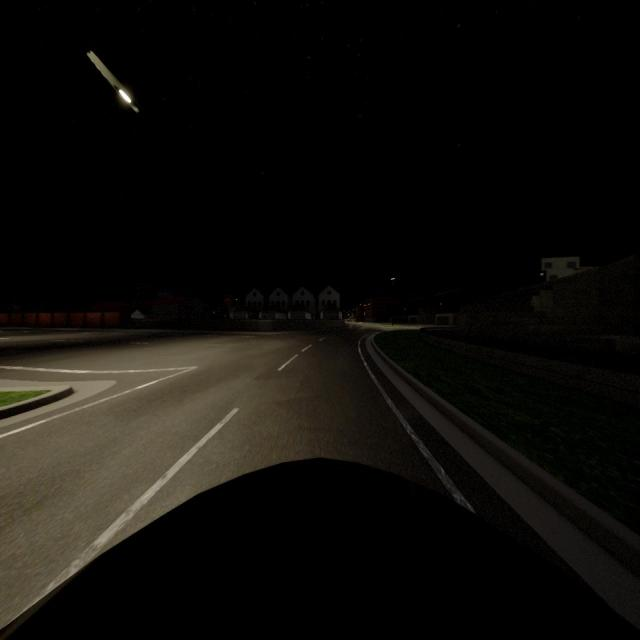Vehicle: (0, 466, 640, 640)
